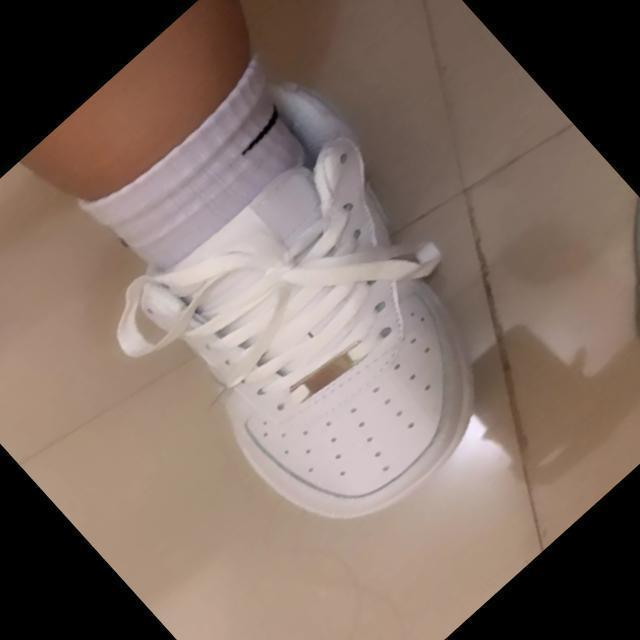nike fake air force: (56, 56, 563, 570)
